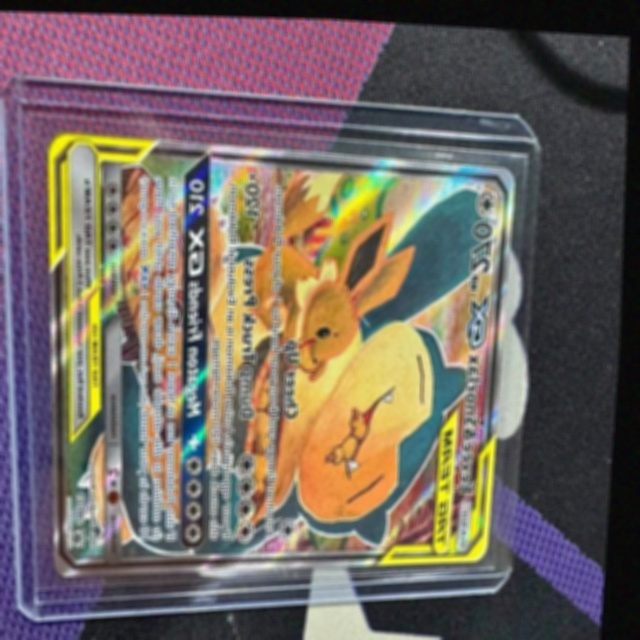card: (48, 129, 517, 576)
